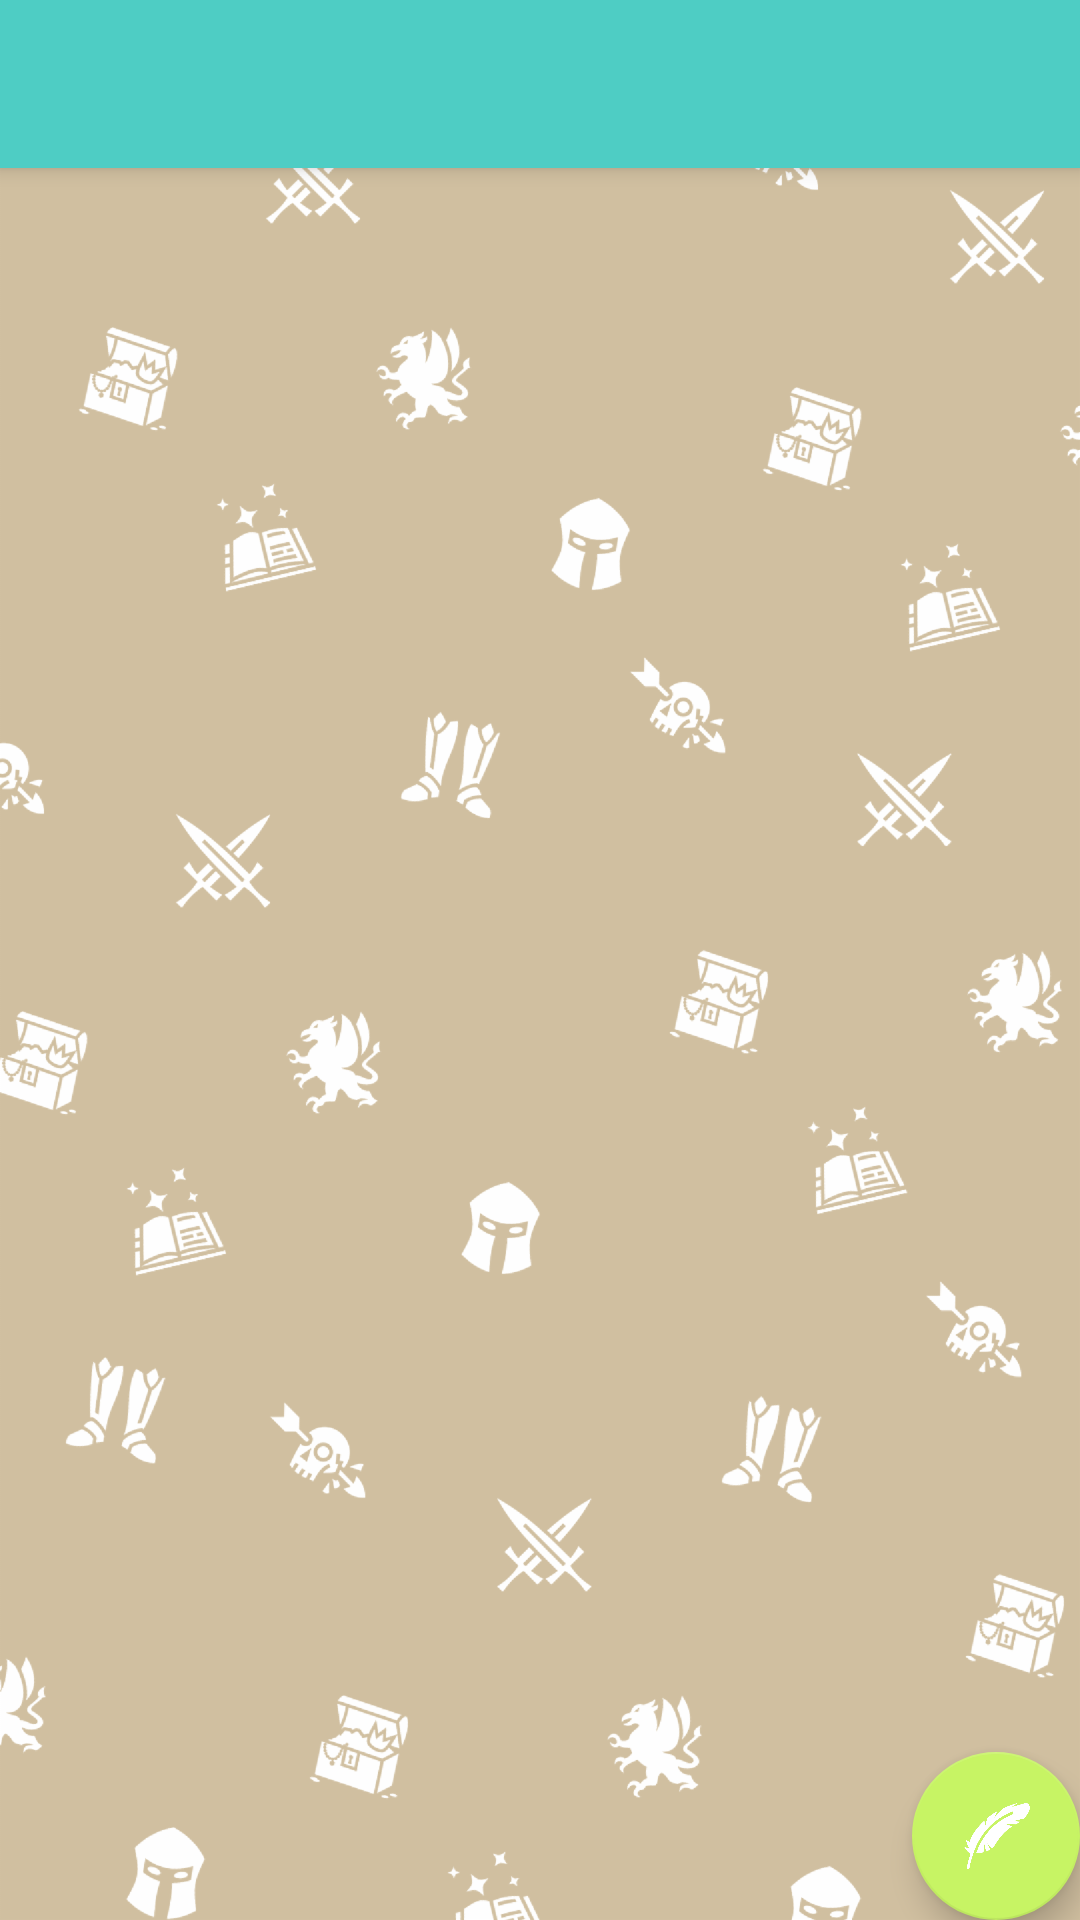

Named icons in this screenshot (1080*1920) and their bounding boxes, (x1, y1, x2, y2):
feather: (912, 1752, 1080, 1920)
